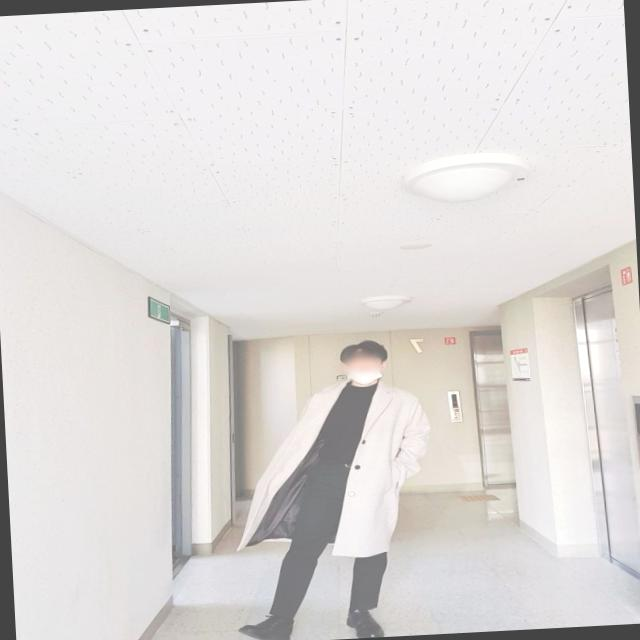coat: (229, 373, 436, 564)
slacks: (262, 458, 390, 614)
